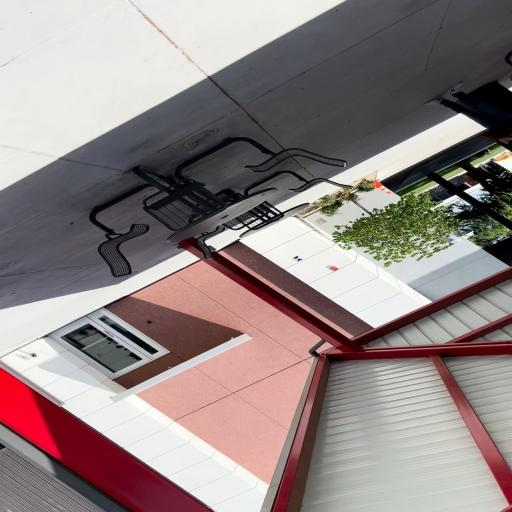target2: (292, 256, 304, 262)
